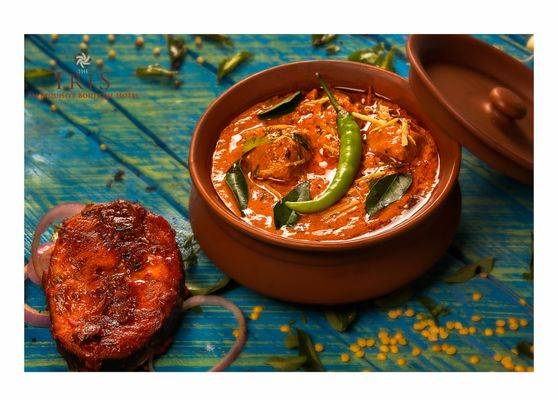sushi: (186, 54, 465, 306), (406, 34, 533, 188)
